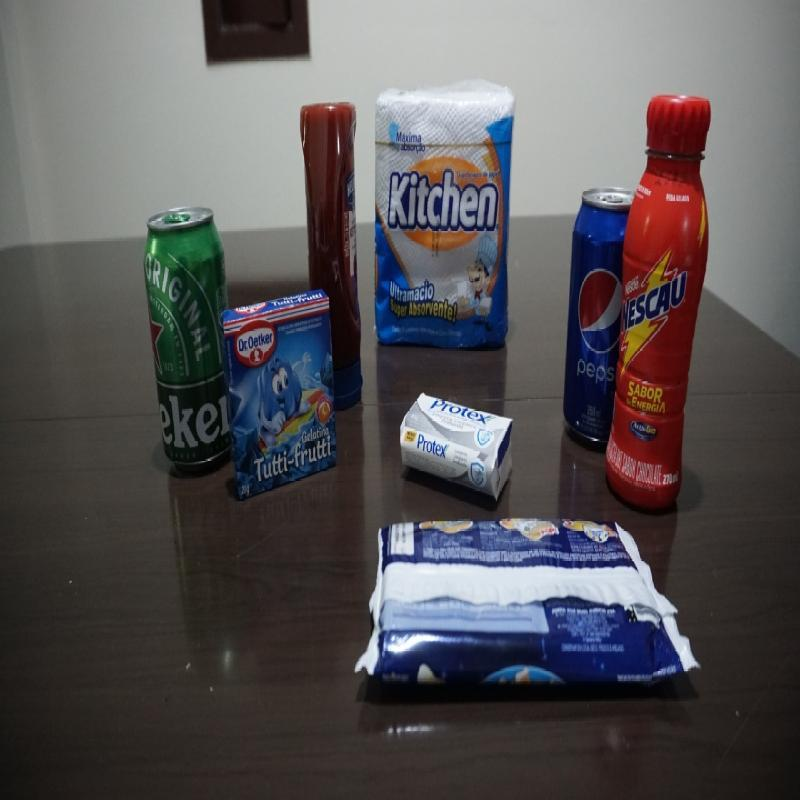Beer can: (141, 204, 230, 474)
Chocolate Milk: (605, 94, 712, 513)
Gelatine: (220, 290, 339, 501)
Ketchup: (301, 100, 364, 411)
Napkin: (370, 80, 517, 350)
Popcorn: (357, 517, 704, 692)
Soap: (398, 394, 513, 504)
Soda can: (561, 187, 627, 445)
